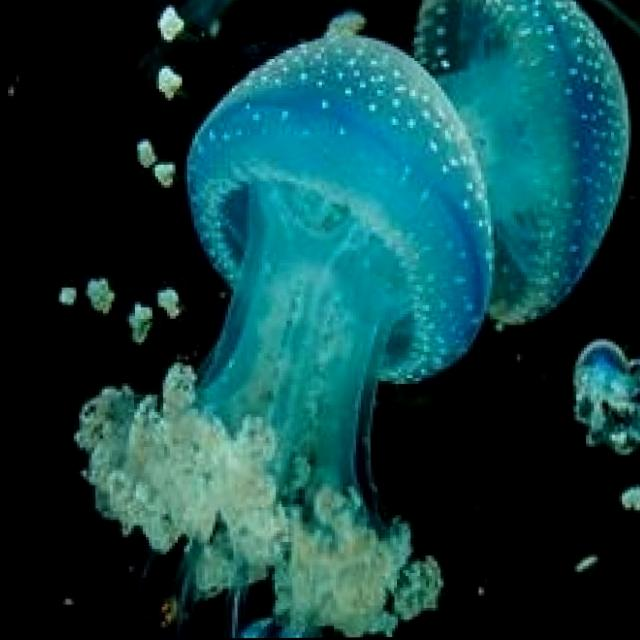Jellyfish: (73, 20, 584, 639)
